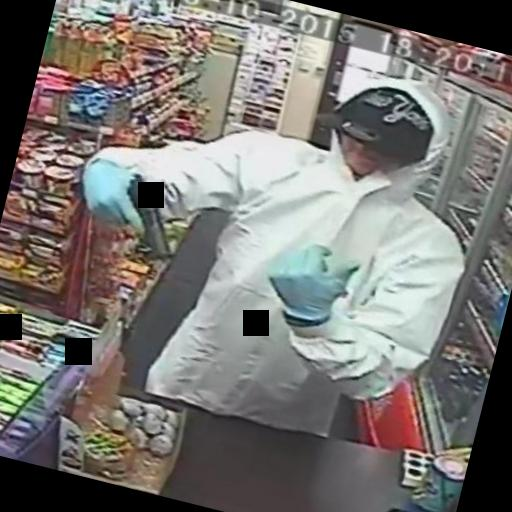Handgun: (78, 162, 188, 267)
